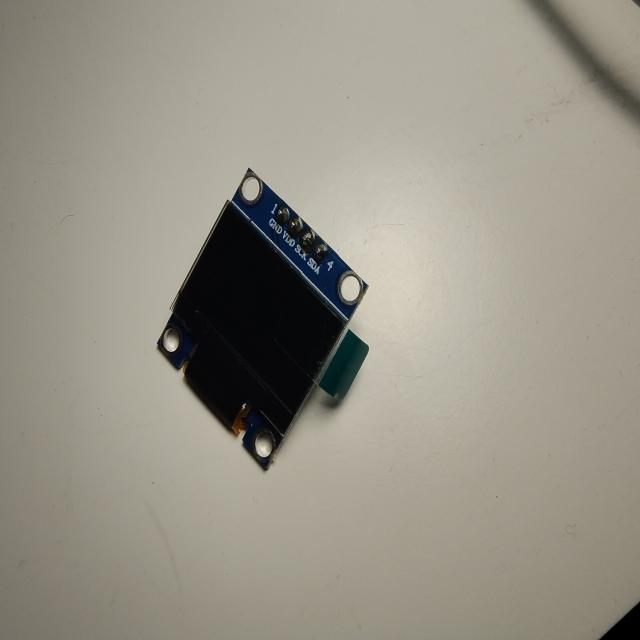oled: (151, 165, 374, 471)
